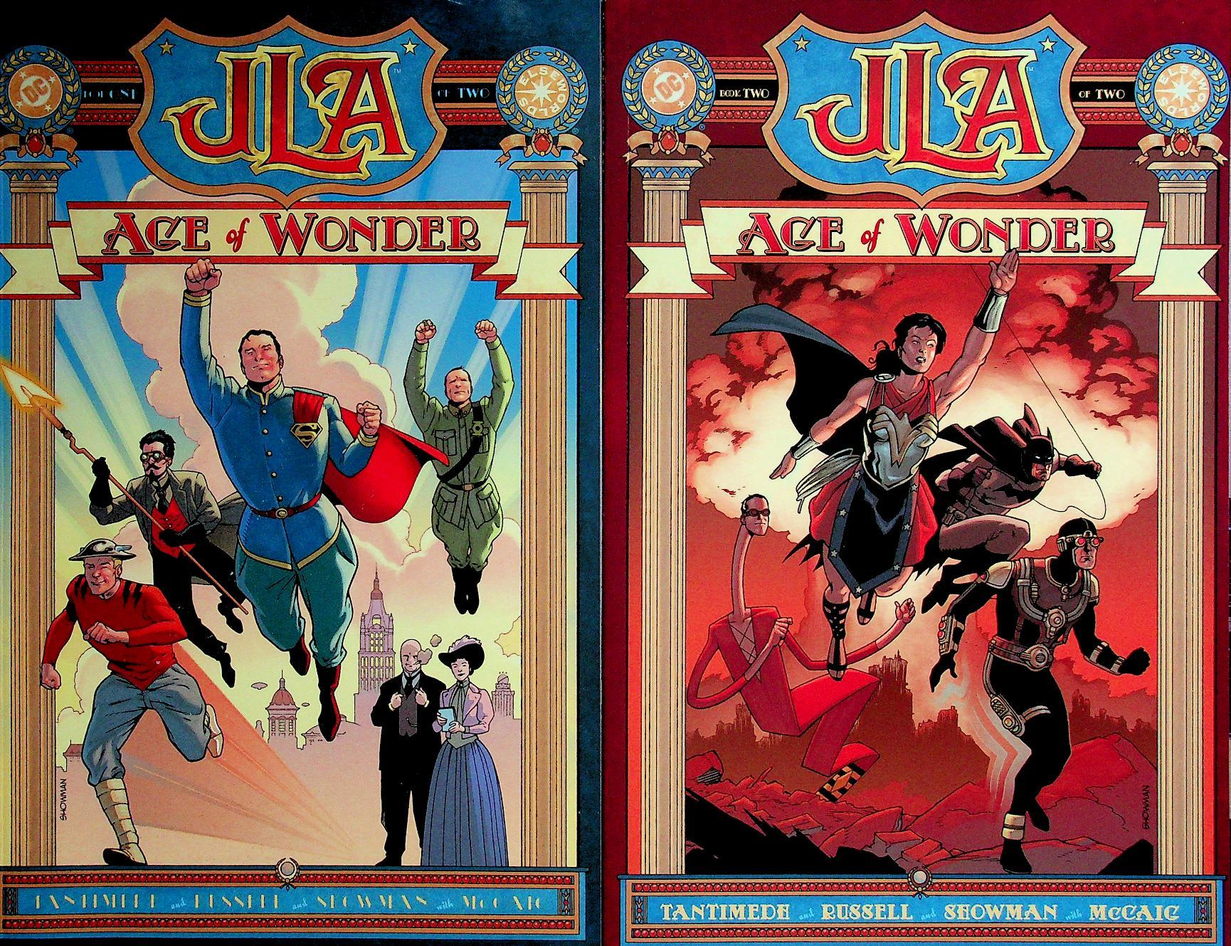comic: (604, 0, 1227, 942), (0, 1, 601, 941)
